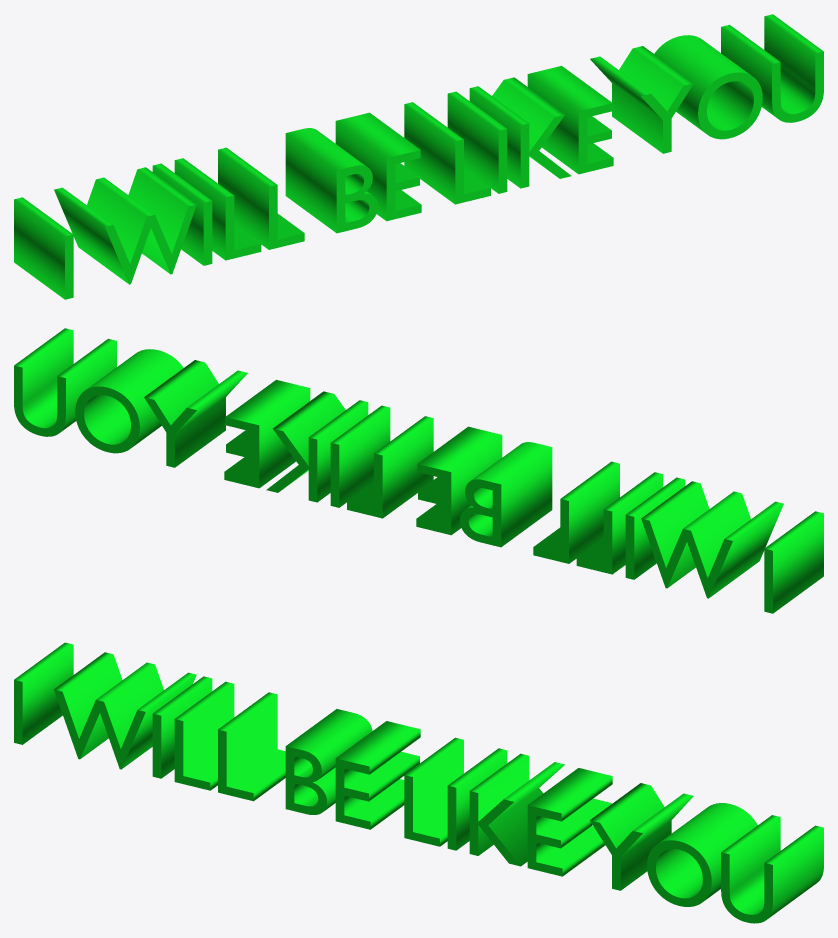
File: Envy1.fbx
3 views of the same model, one above another, from view 1: azimuth 30°, elevation 25°; view 2: azimuth 150°, elevation 25°; view 3: azimuth 330°, elevation 25° (orthographic).
Parts seen in each view (by area): view 1: Text; view 2: Text; view 3: Text.
Boxes of the visible parts, x1=… form: Text: x1=14, y1=14, x2=823, y2=299; Text: x1=14, y1=328, x2=823, y2=613; Text: x1=14, y1=642, x2=823, y2=923.
Size of the model in its own units: 859 by 70 by 100.
